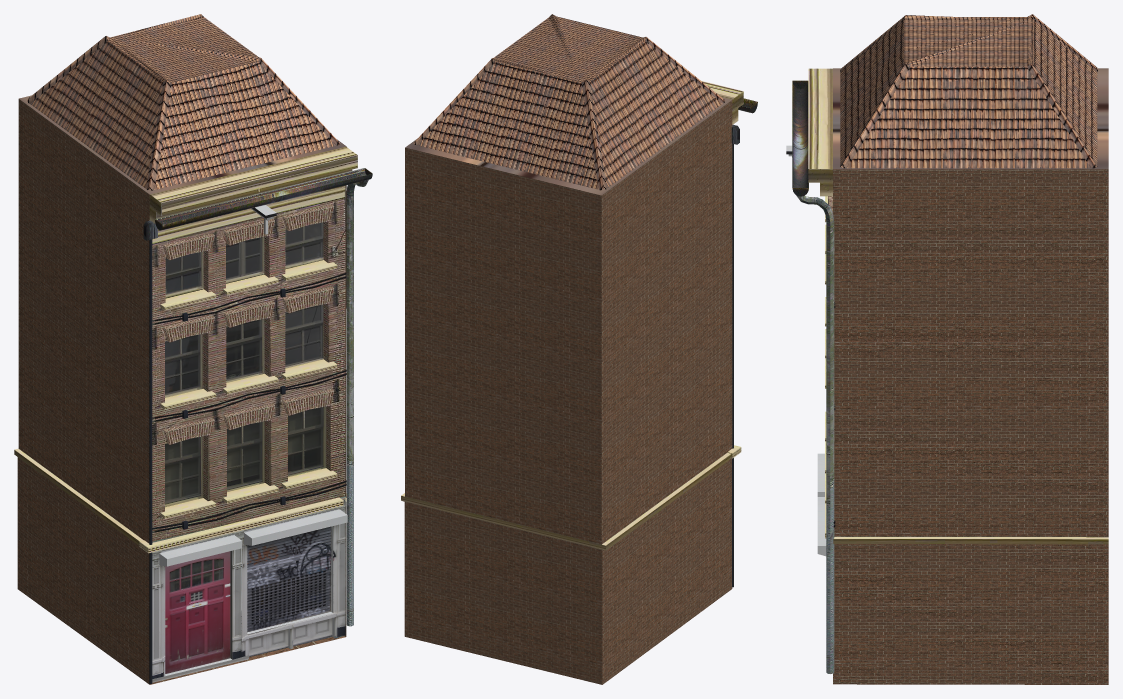
The model's file is ams_house3.fbx.
3 renders of one model, left to right at view 1: azimuth 30°, elevation 25°; view 2: azimuth 150°, elevation 25°; view 3: azimuth 270°, elevation 25°, orthographic. The views are drawn at different scales.
Parts seen in each view (by area): view 1: Default_Layer; view 2: Default_Layer; view 3: Default_Layer.
Boxes of the visible parts, x1,y1,x2,y2 form: Default_Layer: (14,14,372,684); Default_Layer: (401,14,757,684); Default_Layer: (786,14,1108,684).
Bounding box in the file's own units: 458 × 1181 × 579.
